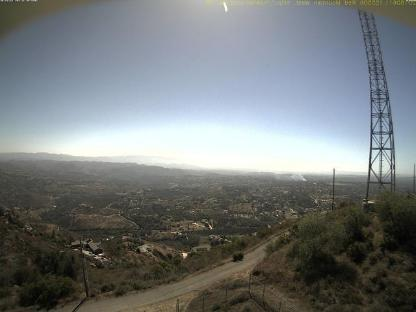smoke: (289, 168, 307, 181)
